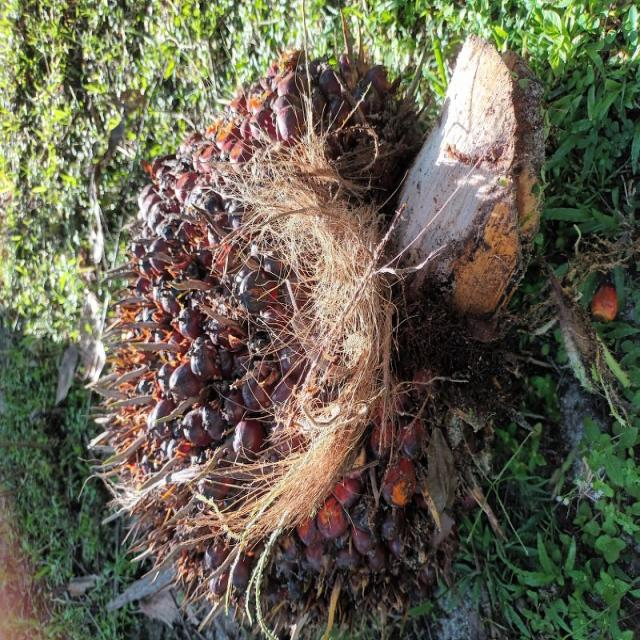fraksi 1: (22, 85, 480, 621)
